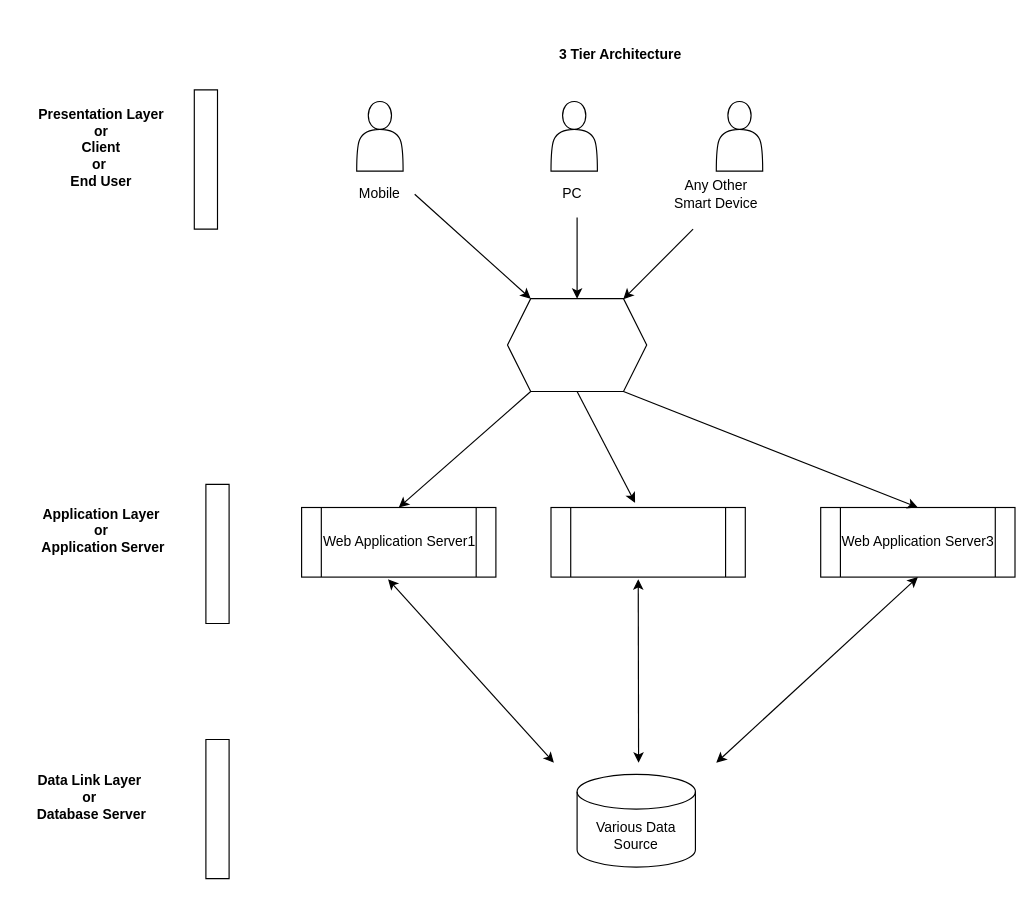
Image size: 1035x899. Some labels were removed from this diagram. Each missing label, with the centre of its shape:
Load Balancer: point (576, 345)
Web Application Server2: point (647, 541)
